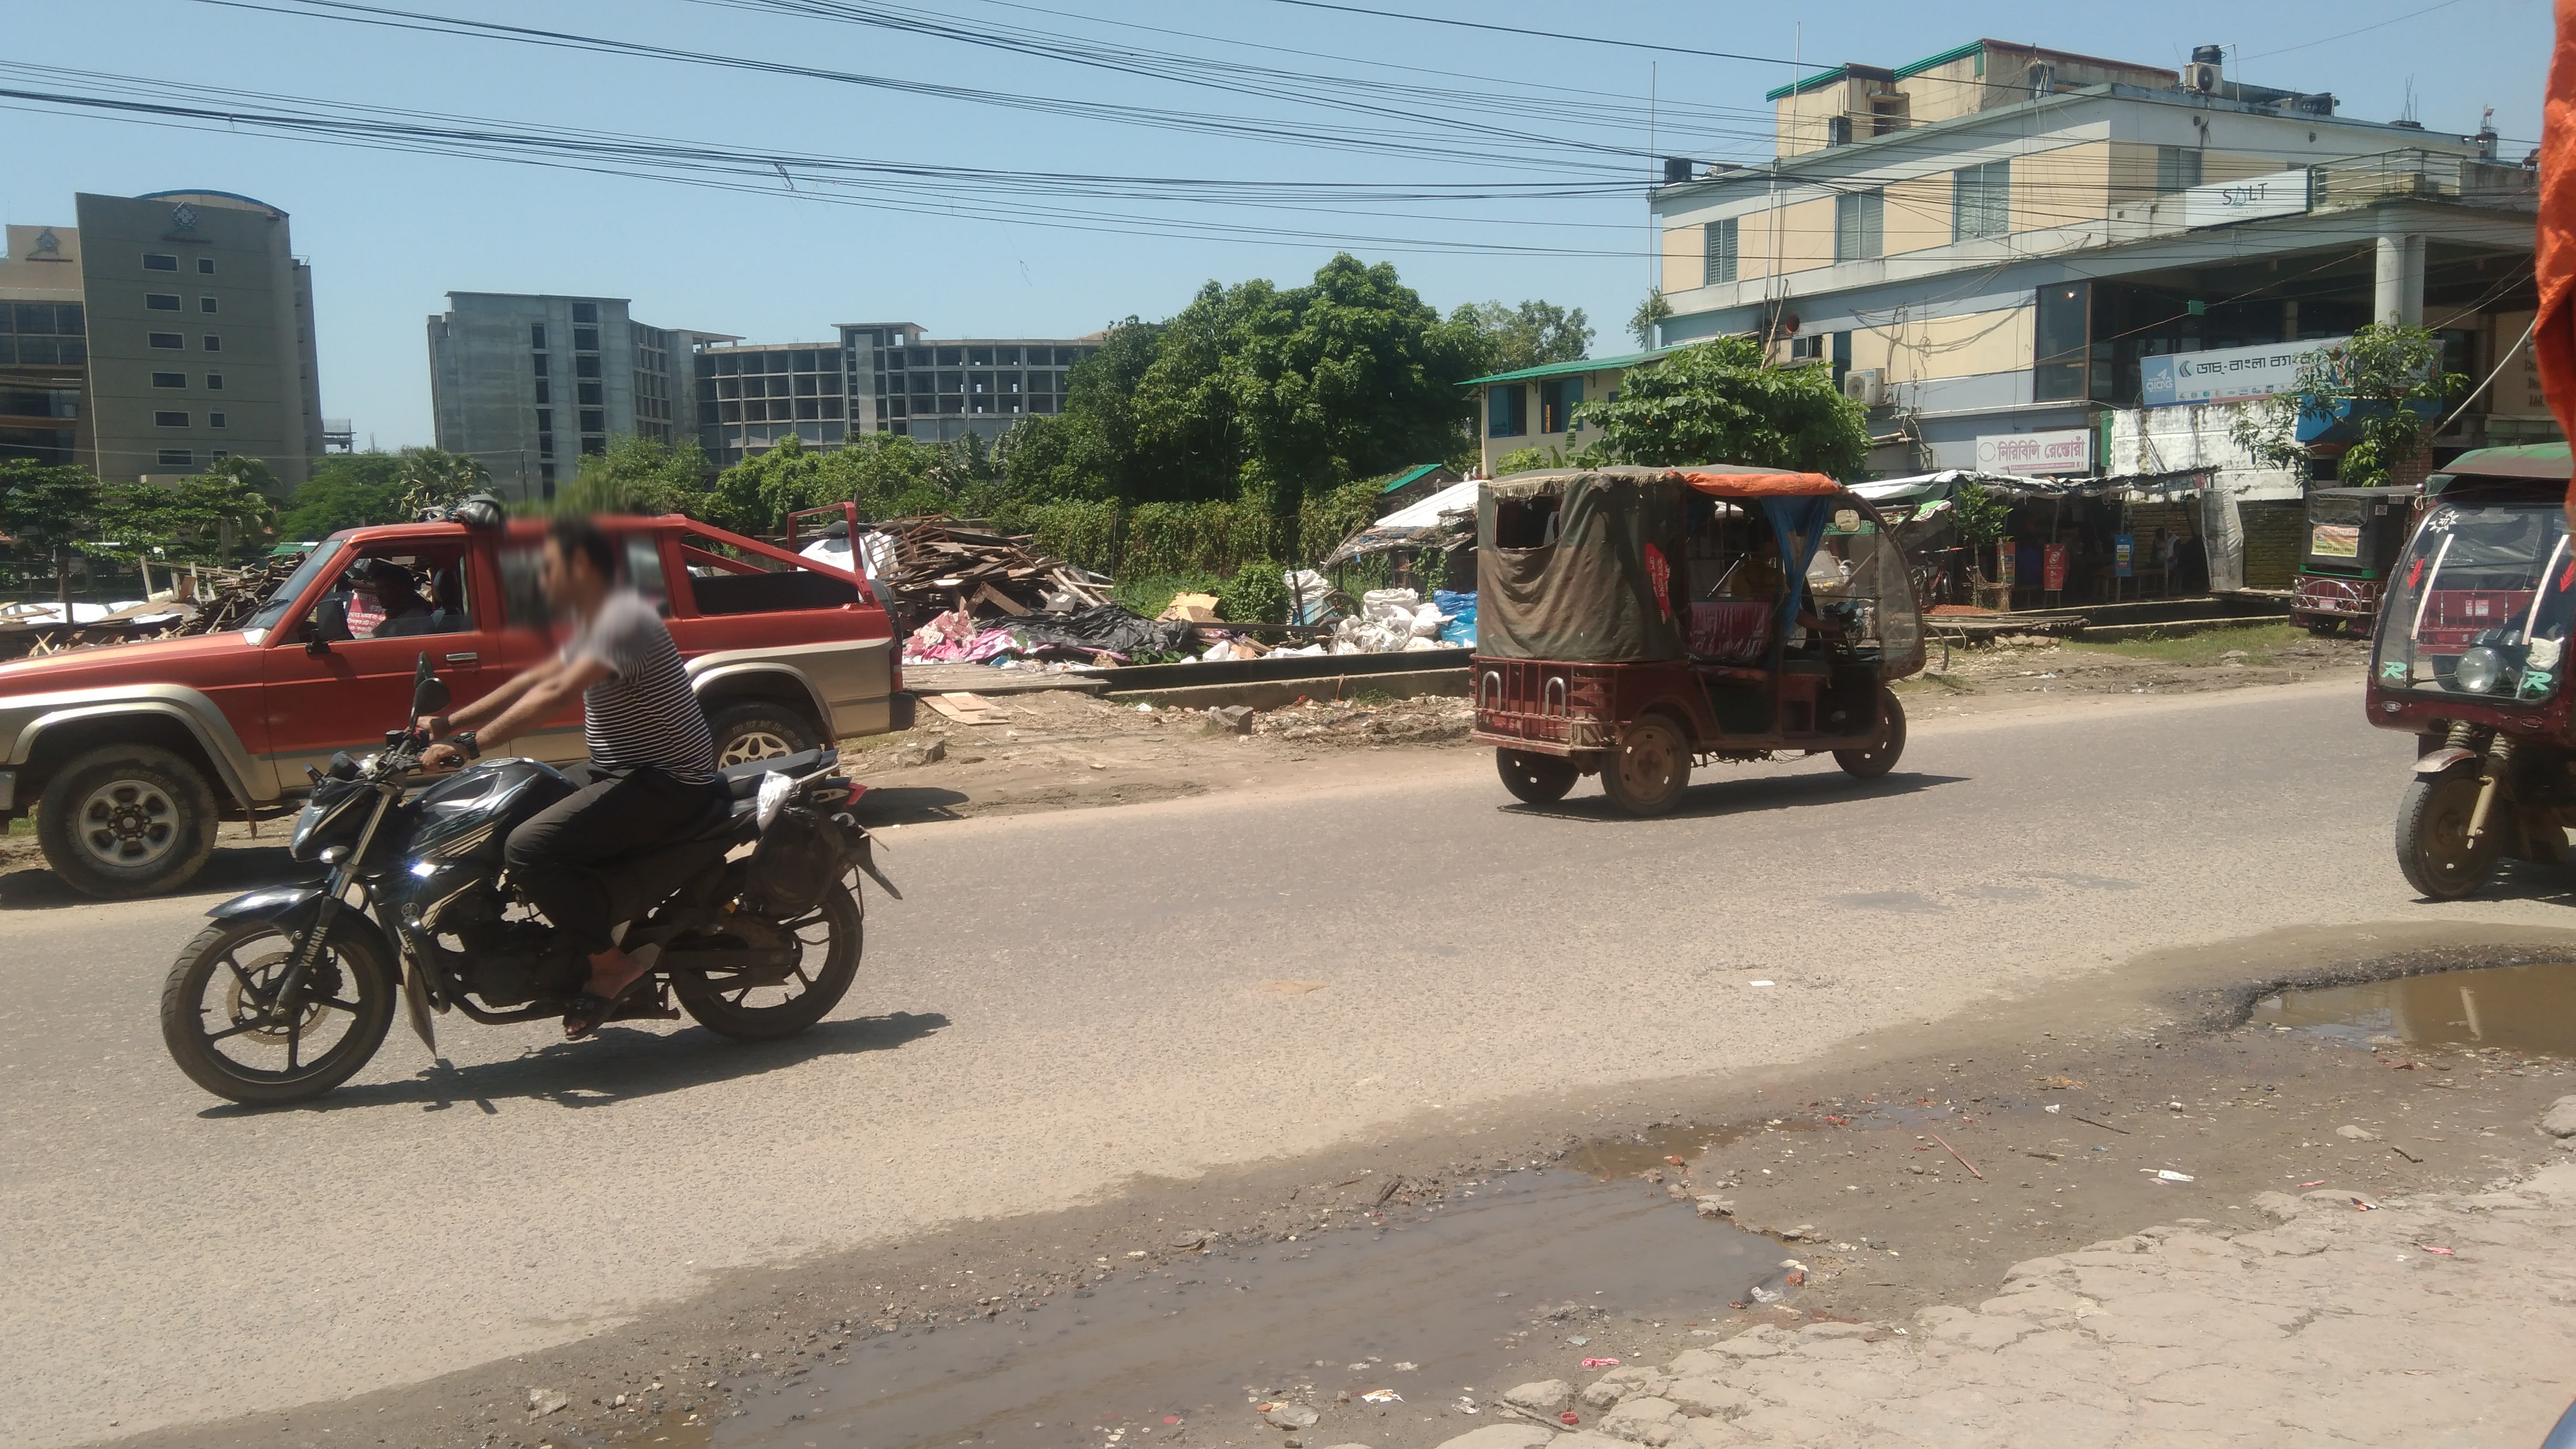bike: (154, 656, 897, 1102)
car: (4, 497, 931, 901)
easybike: (1456, 456, 1936, 821), (2365, 425, 2576, 904), (2293, 472, 2427, 642)
